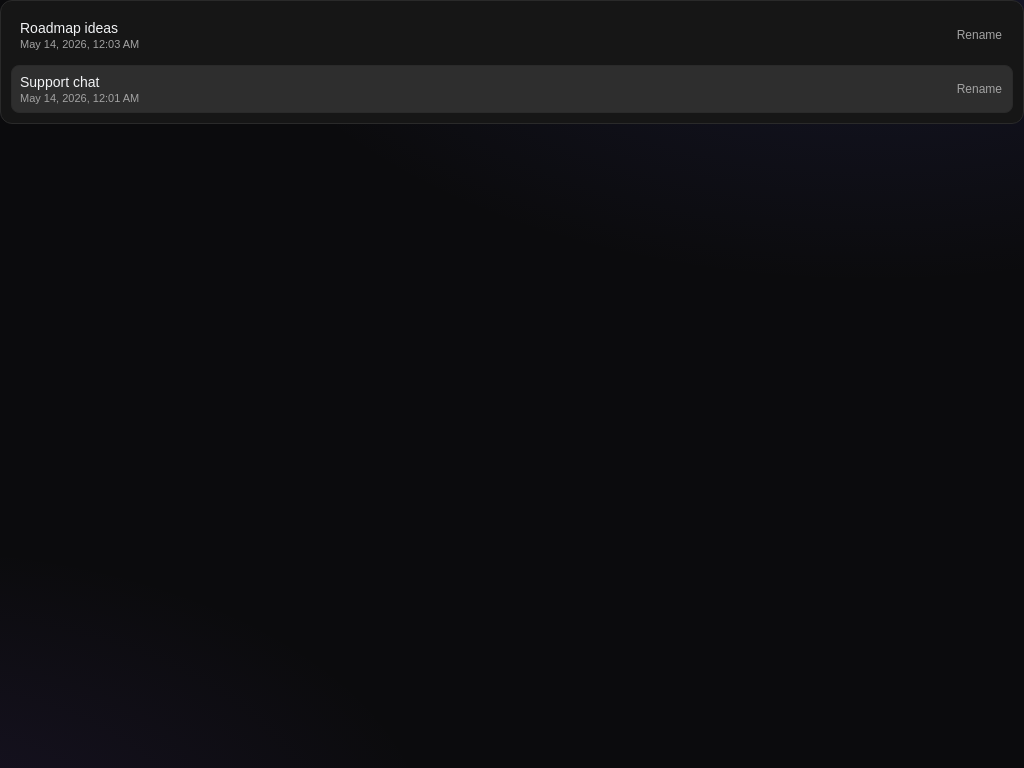
ConversationList › clears rename mode when the conversation disappears from the list underneath it
Click the button with aria-label "rename support chat" at (979, 89), box [951,78,1008,100]
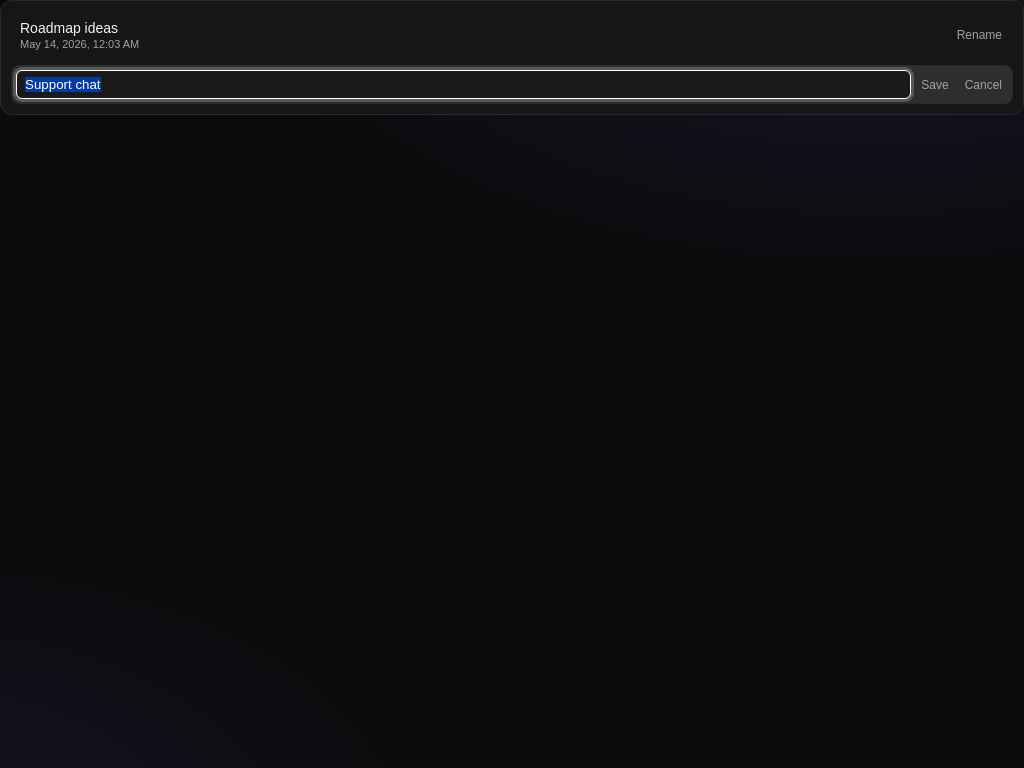
expect the field named "rename support chat" is shown: met, box [16,70,911,99]
